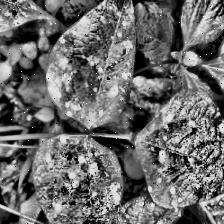Bean Rust: (48, 0, 136, 131), (134, 88, 224, 208), (35, 130, 123, 224)
